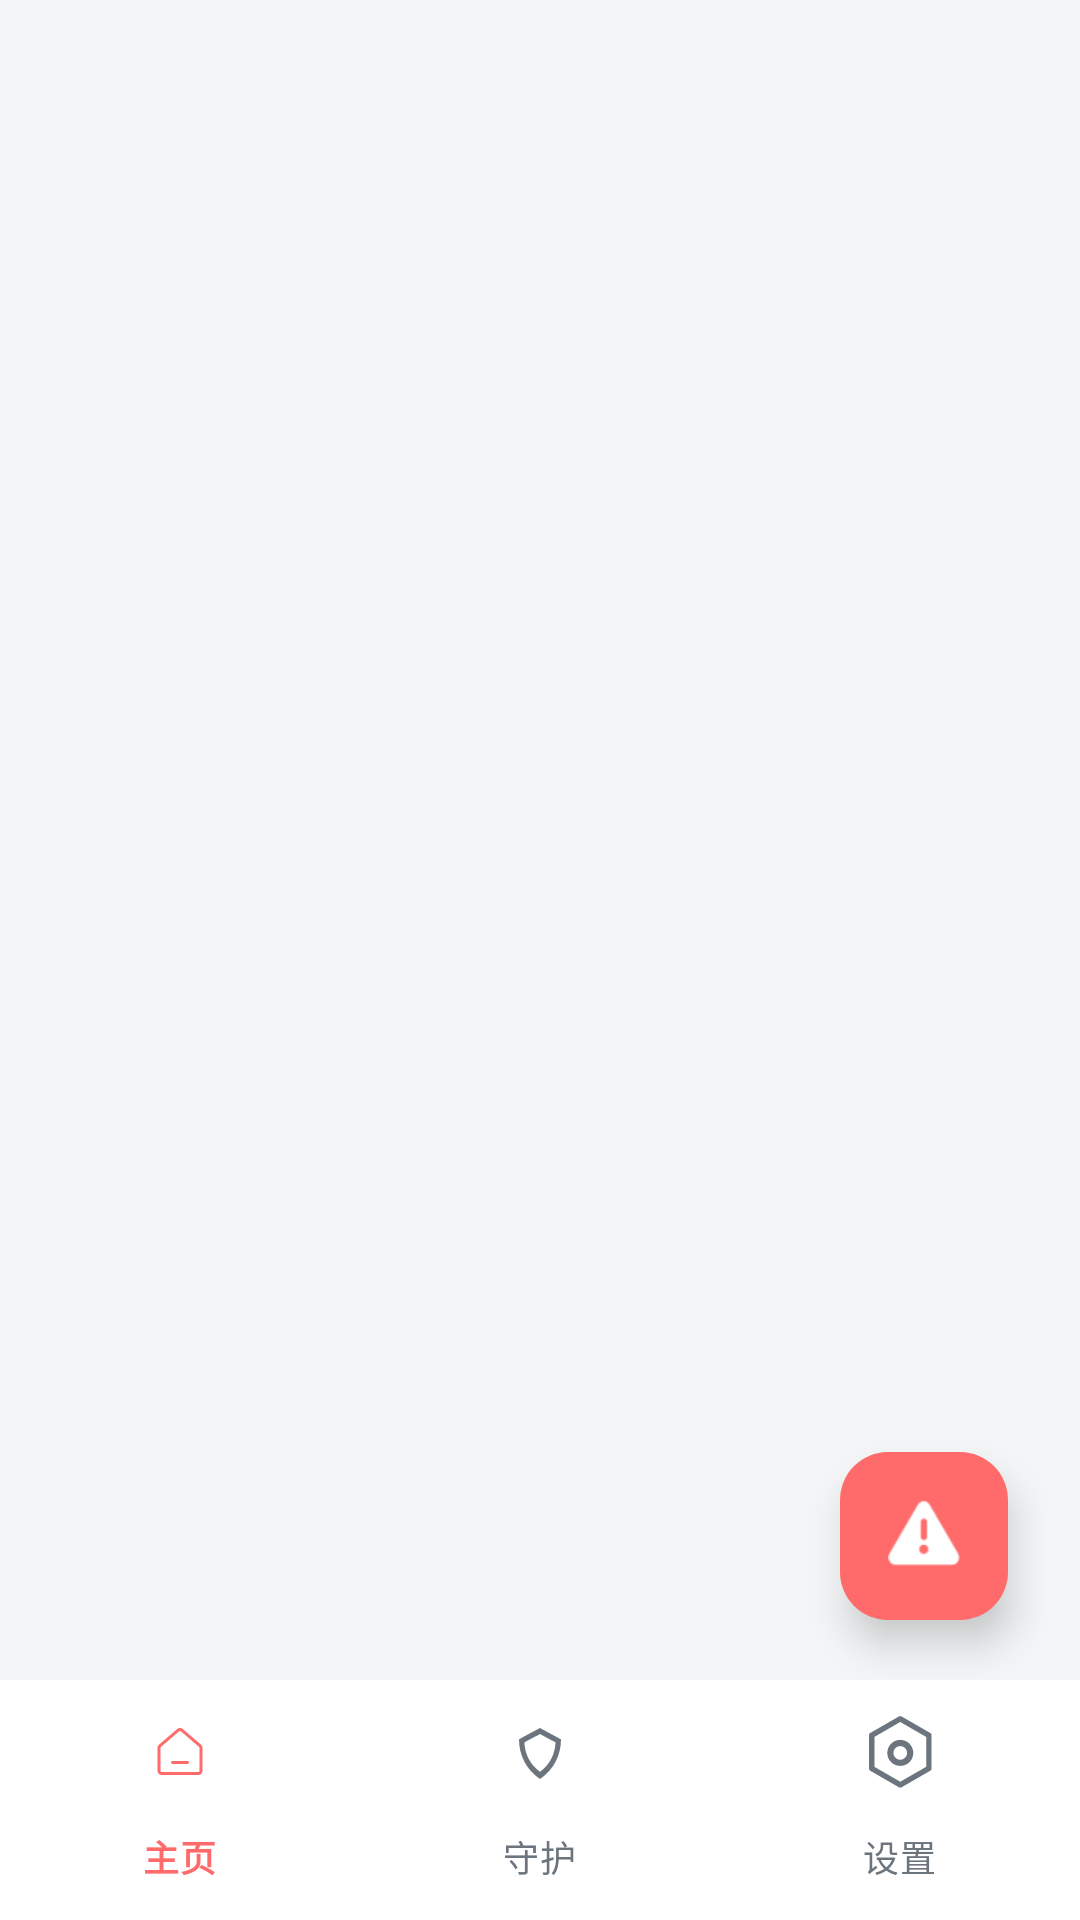

Where icons sit on this 1080*1920 app screen, as (x1,y1,x2,y2):
alert: (840,1452,1008,1620)
